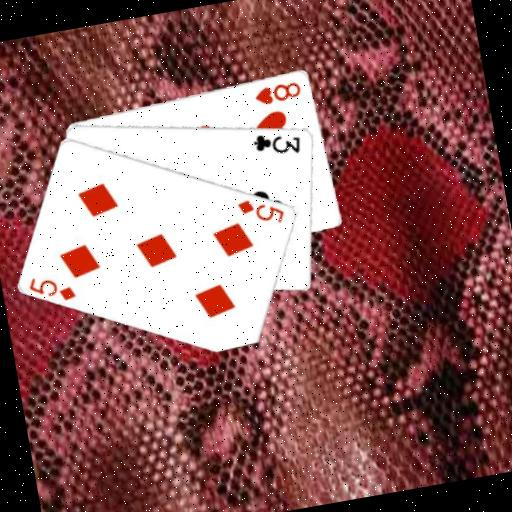3C: (249, 124, 304, 161)
5D: (233, 190, 288, 231), (24, 267, 78, 308)
8H: (250, 76, 304, 108)
